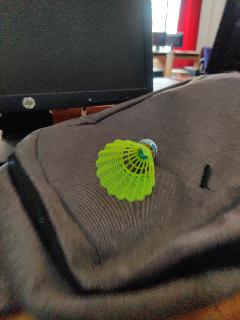shuttlecock: (96, 138, 158, 200)
